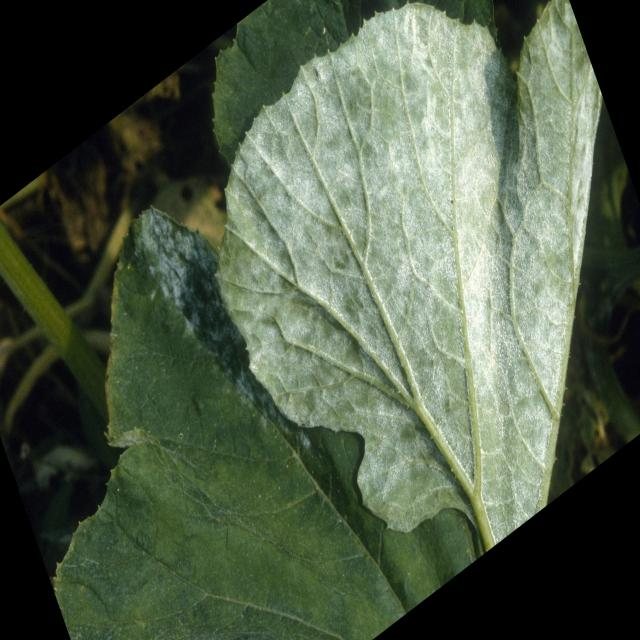Powdery Mildew: (213, 1, 603, 552)
